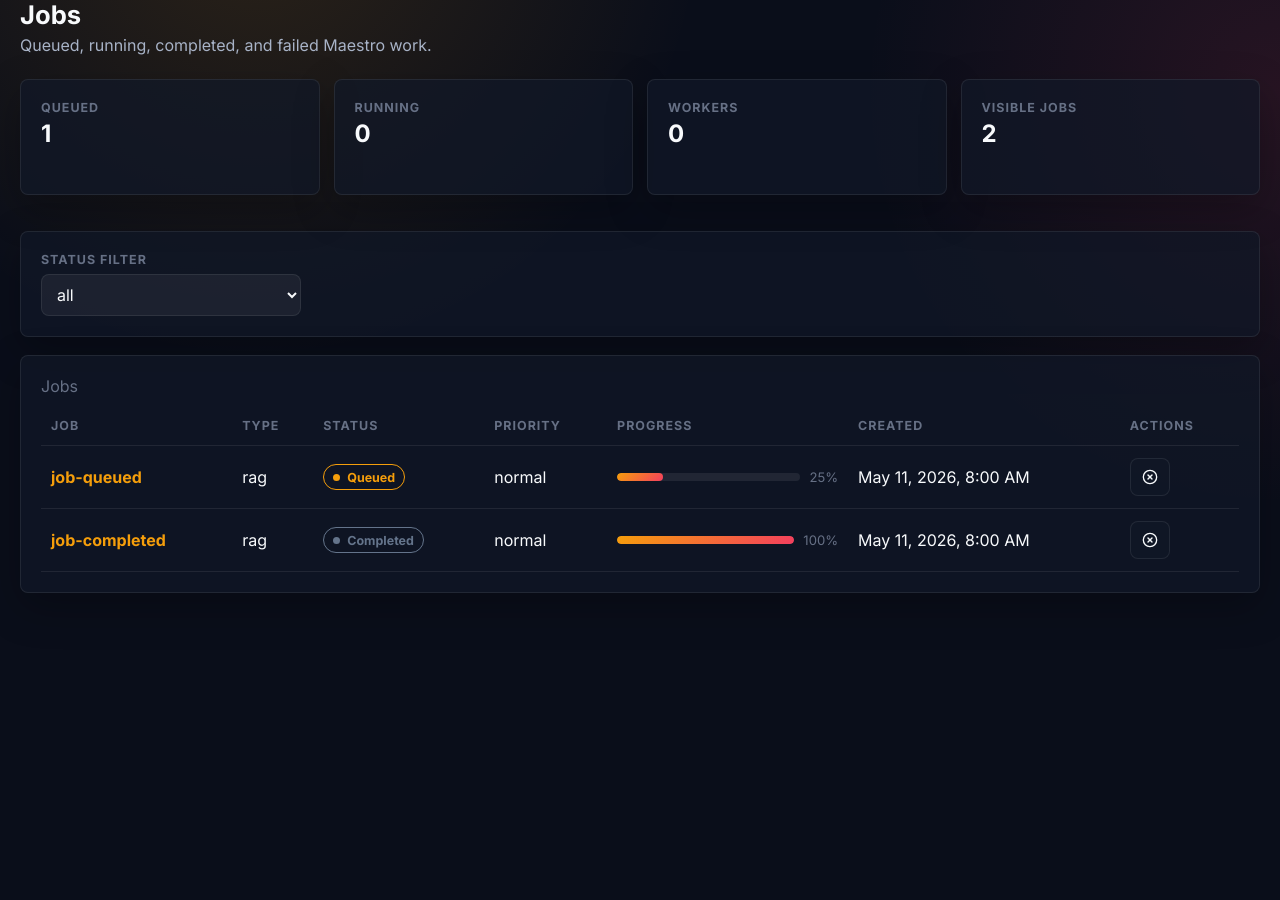
Test: JobsPage › confirms job cancellation from the jobs table and refreshes related queries
This screenshot has width=1280, height=900.
Check: the link "job-queued" is shown, box 51,467 -> 142,487
Step 1. Click the button named "cancel job-queued" → (1150, 477), box 1130,458 -> 1170,496
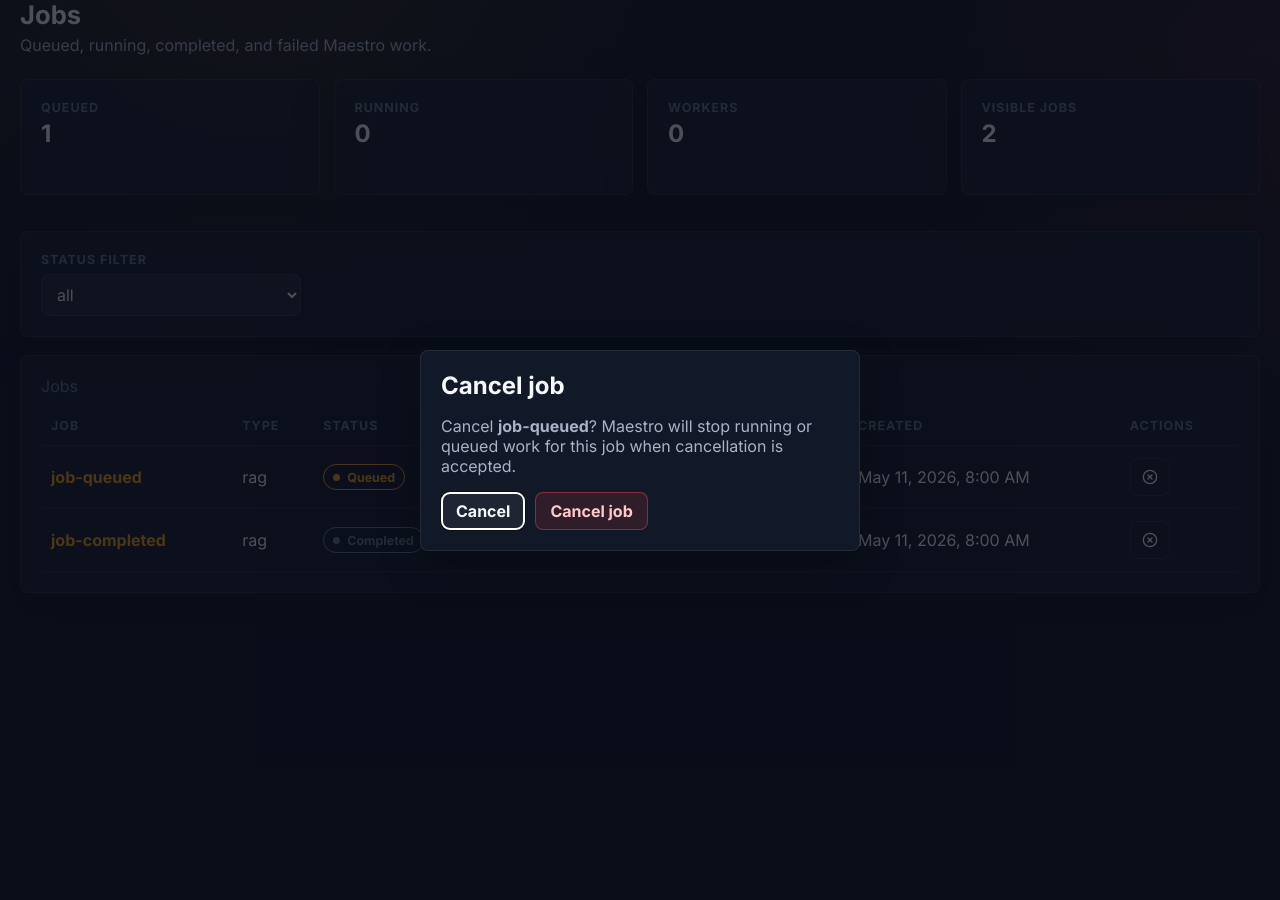
Check: the dialog "Cancel job" is shown, box 420,350 -> 860,550
Step 2. Click the button "Cancel job" → (592, 510), box 535,492 -> 648,530
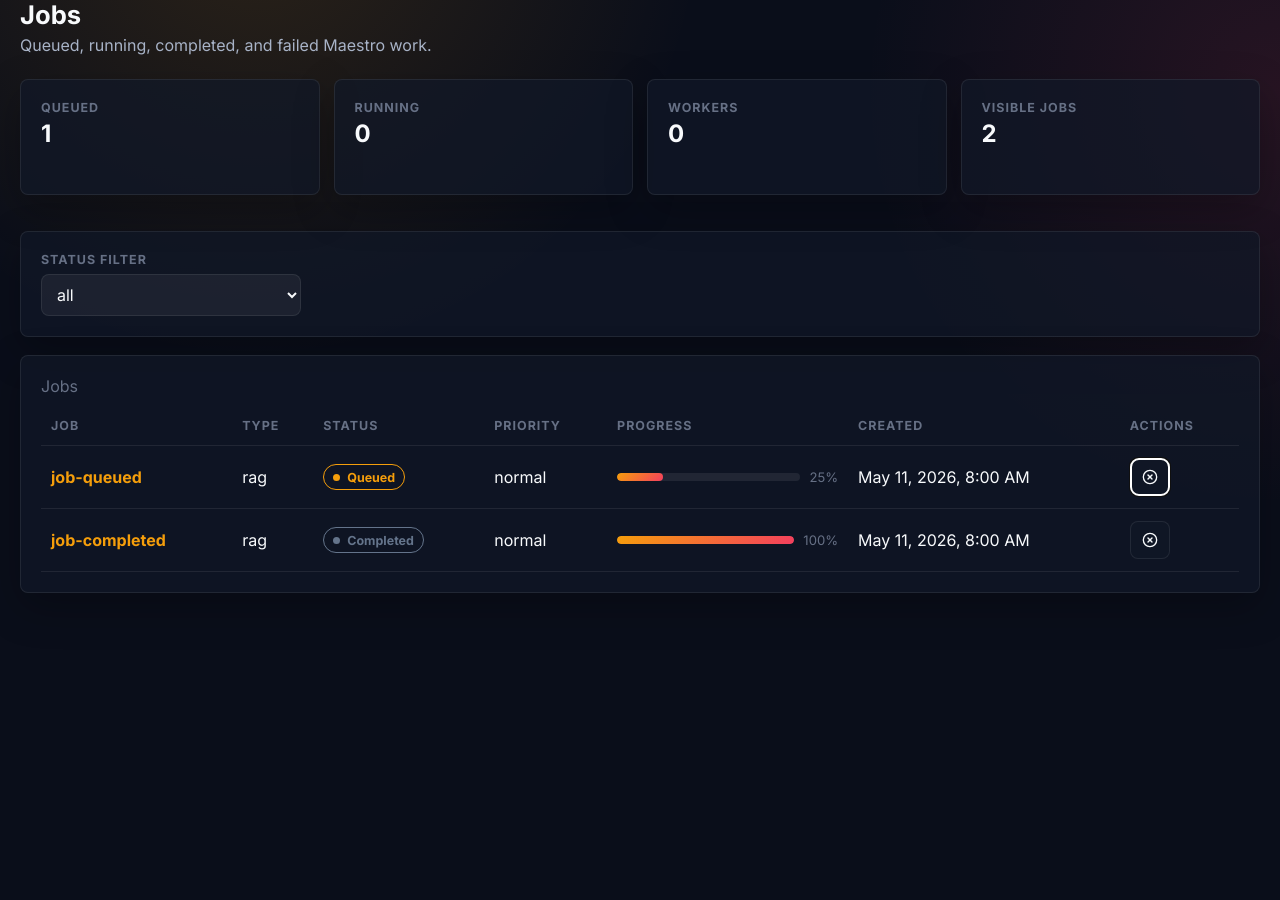
Check: the link "job-queued" is shown, box 51,467 -> 142,487
Check: the heading "Cancel job" is gone
